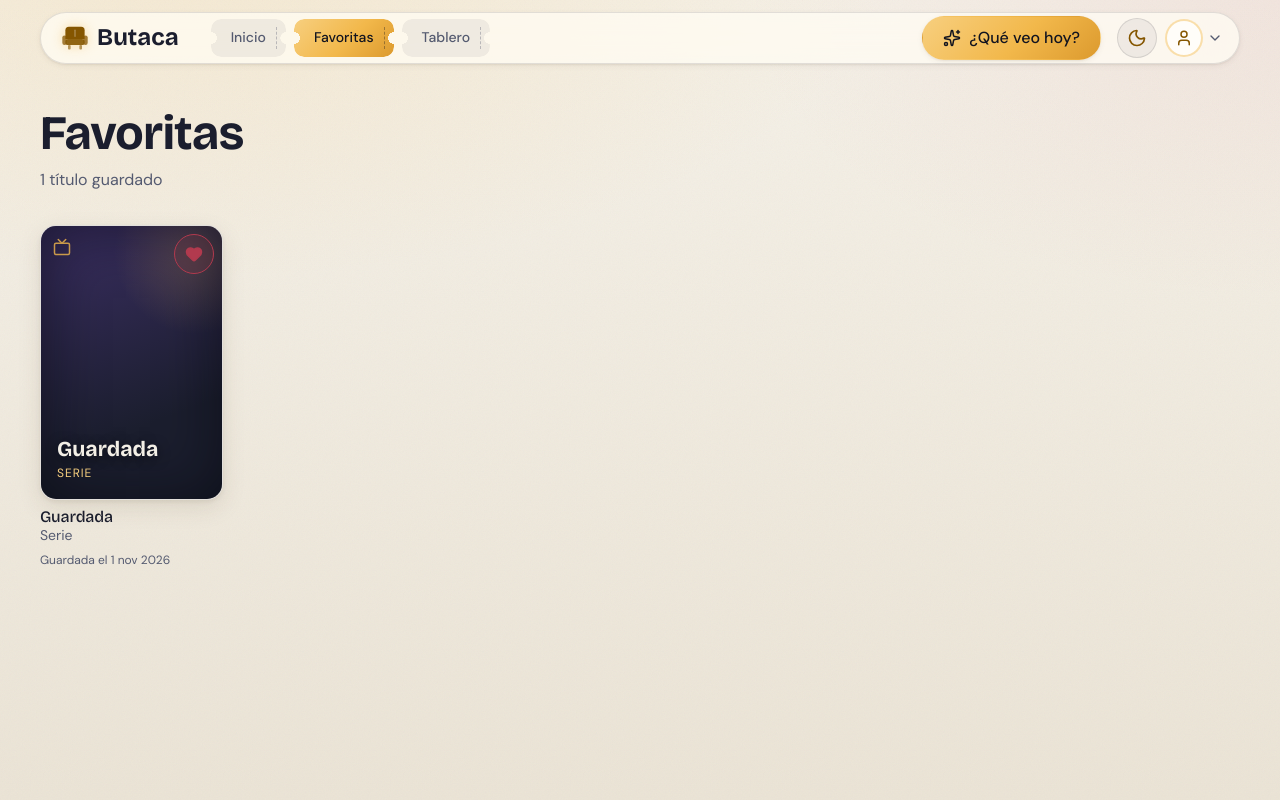
it: con sesión iniciada › carga las favoritas guardadas y las borra por su id de registro
The image size is (1280, 800).
Click the button named "Quitar Guardada de favoritas".
click(194, 254)  # box 174,234 -> 214,274
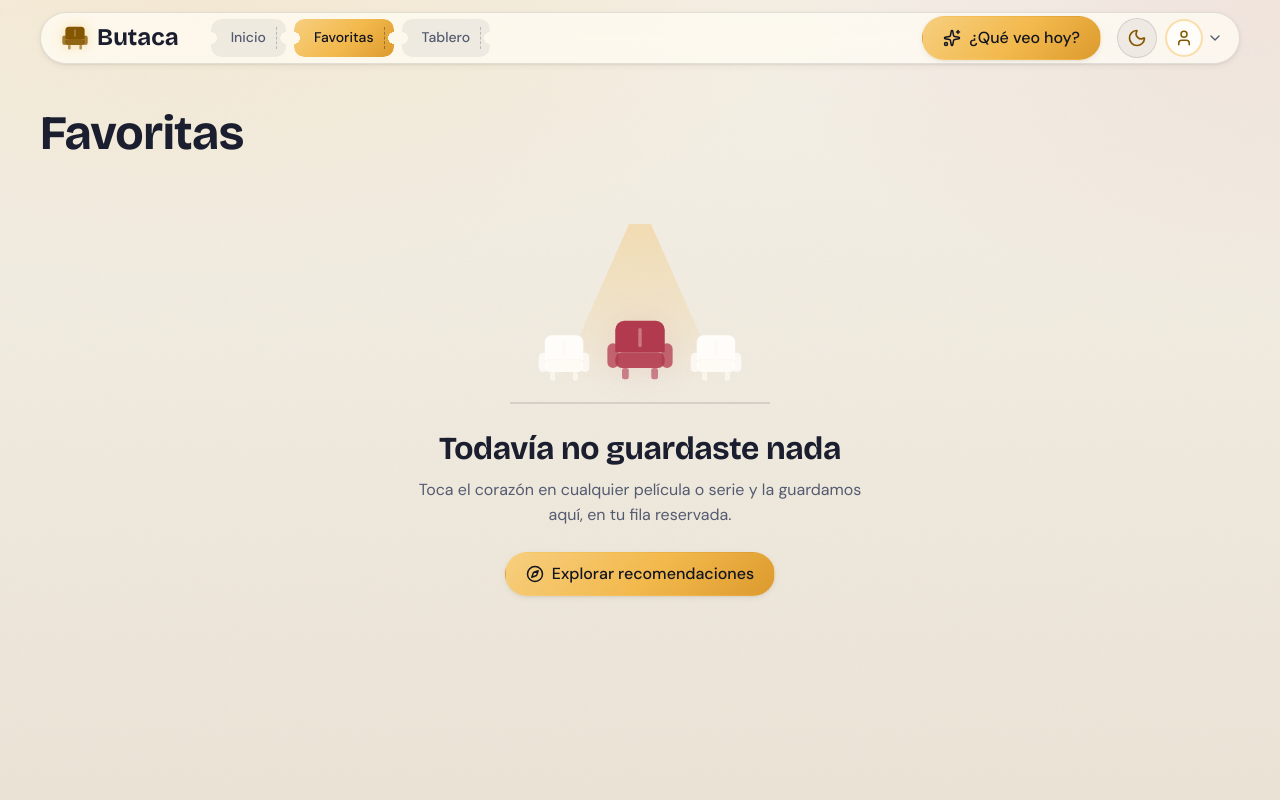
Expected: the heading "Todavía no guardaste nada" is shown, 439,432 -> 841,466
